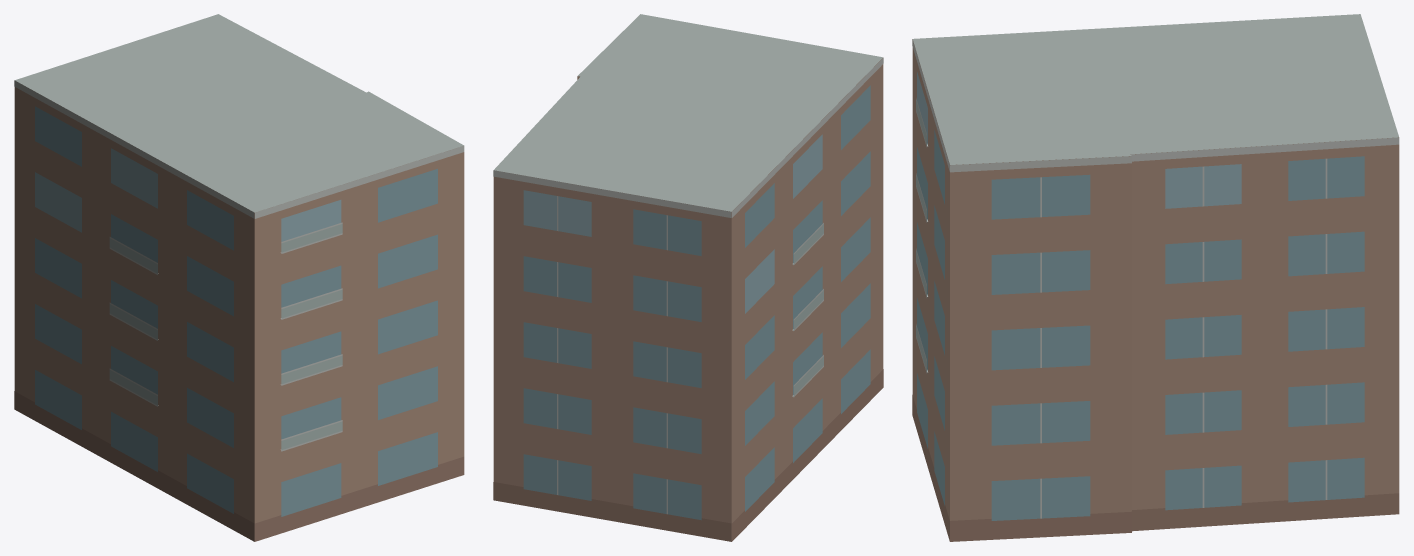
The model's file is survey-upis-32675598.glb.
The picture shows the model from 3 angles, left to right: view 1: azimuth 30°, elevation 25°; view 2: azimuth 150°, elevation 25°; view 3: azimuth 270°, elevation 25°; orthographic projection. The views are drawn at different scales.
Visible parts, largest first — view 1: survey-upis-32675598.tmp; view 2: survey-upis-32675598.tmp; view 3: survey-upis-32675598.tmp.
Boxes of the visible parts, x1,y1,x2,y2 form: survey-upis-32675598.tmp: [14, 14, 464, 541]; survey-upis-32675598.tmp: [493, 14, 883, 541]; survey-upis-32675598.tmp: [912, 14, 1399, 541].
Bounding box in the file's own units: 10.84 × 12.6 × 14.76.
